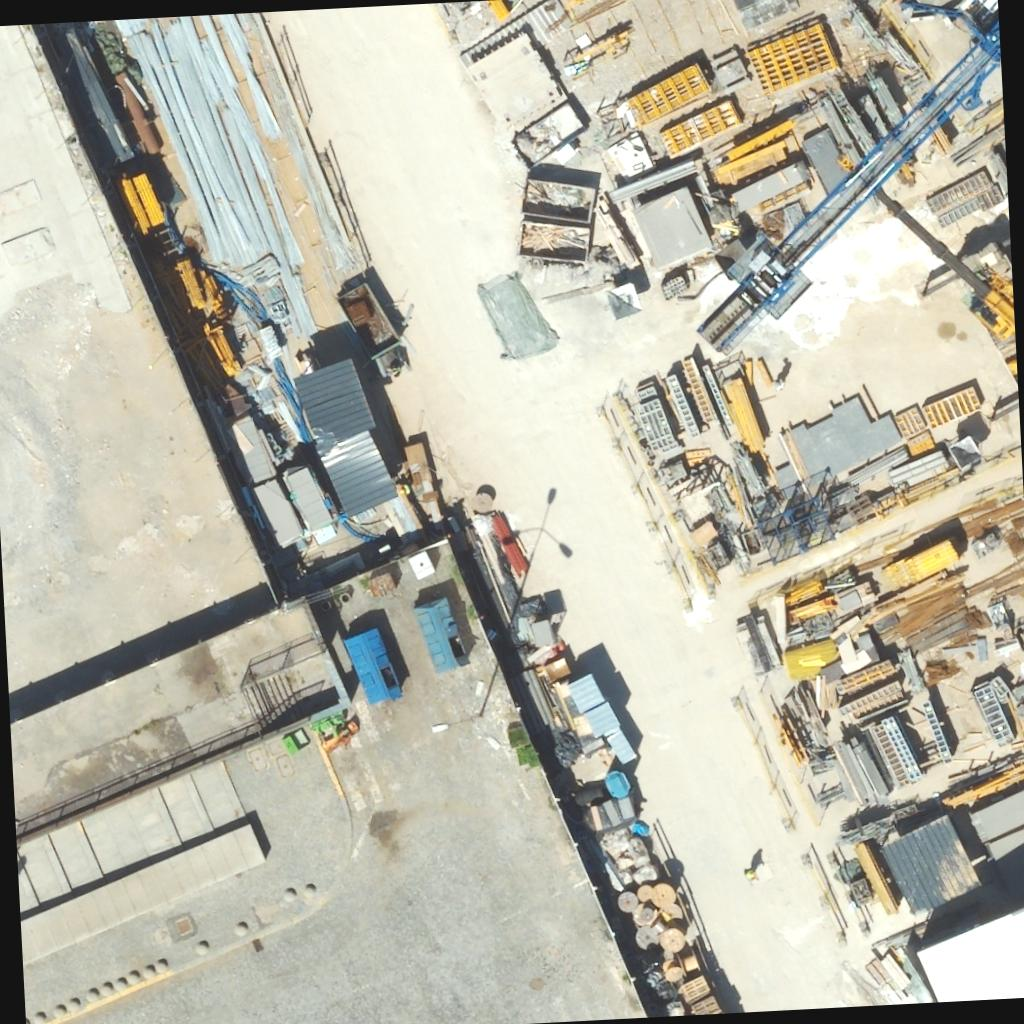zuraw_wiezowy: (657, 0, 1016, 367)
